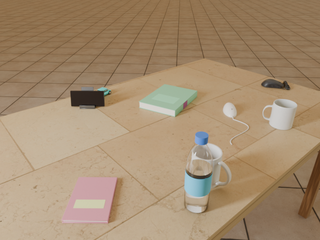book: (62, 177, 117, 223), (139, 84, 197, 117)
bottle: (184, 132, 213, 213)
cup: (207, 143, 231, 188), (263, 99, 297, 130)
mouse: (261, 79, 290, 90), (223, 103, 237, 117)
phone: (70, 90, 105, 106)
toy_car: (98, 87, 111, 95)
